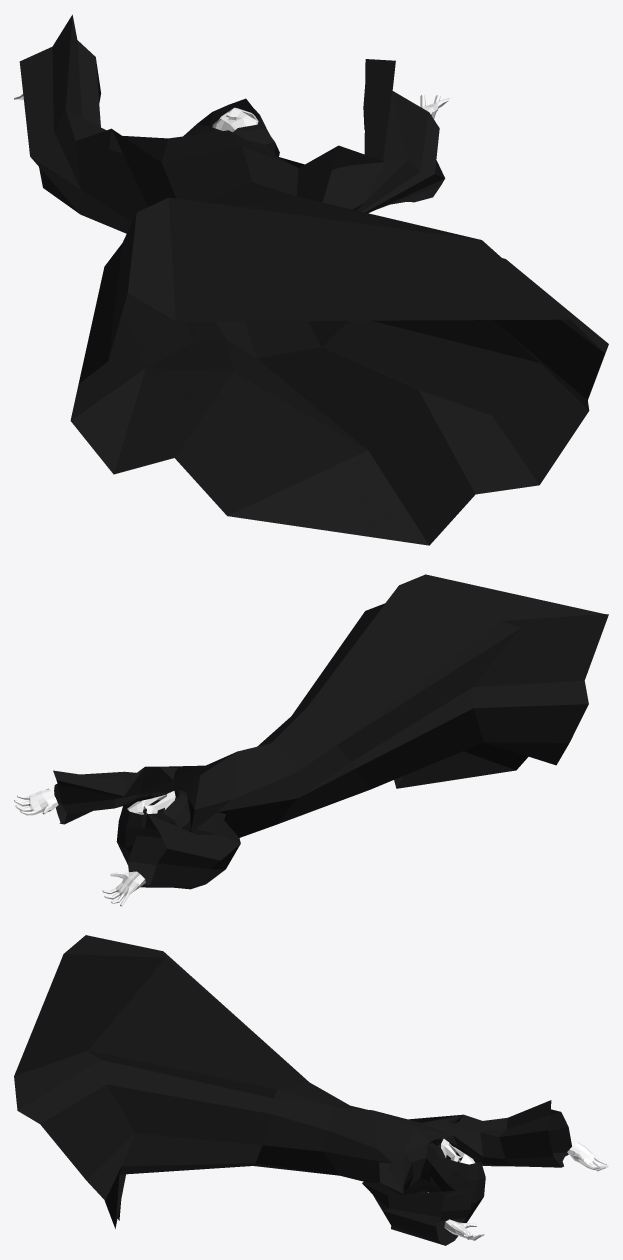
The model's file is ReaperDead(91).obj.
The picture shows the model from 3 angles, top to bottom: view 1: azimuth 30°, elevation 25°; view 2: azimuth 150°, elevation 25°; view 3: azimuth 270°, elevation 25°; orthographic projection. The views are drawn at different scales.
Visible parts, largest first — view 1: Plane003; view 2: Plane003; view 3: Plane003.
Boxes of the visible parts, x1,y1,x2,y2 form: Plane003: (14,14,608,545); Plane003: (14,574,608,906); Plane003: (14,935,608,1245).
Bounding box in the file's own units: 211 × 111 × 292.
